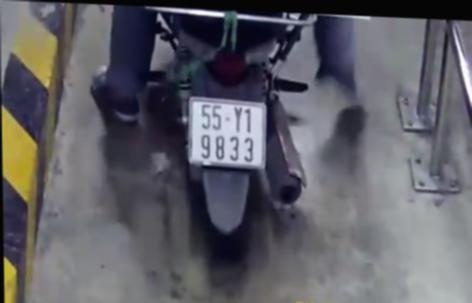License_Plate: (181, 94, 267, 177)
